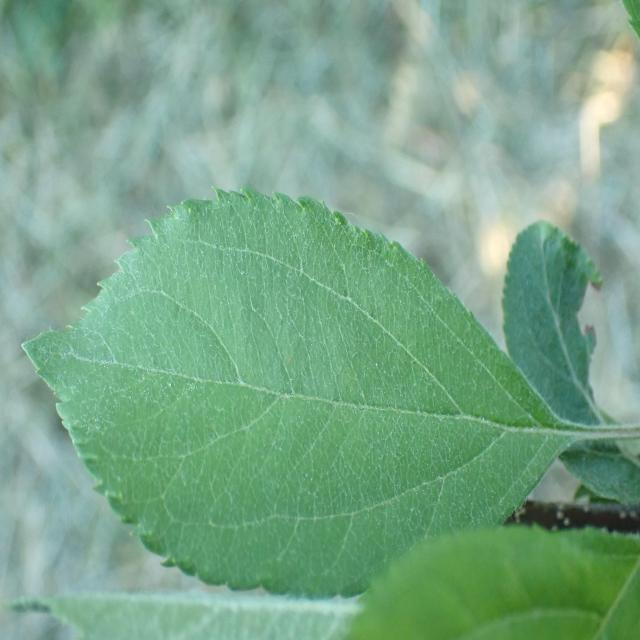healthy: (20, 185, 575, 600), (501, 220, 640, 506), (341, 524, 639, 640)
